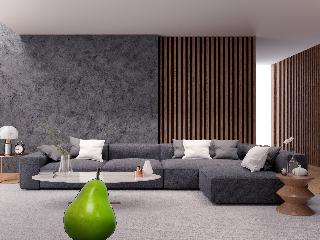pear: (63, 167, 117, 240)
